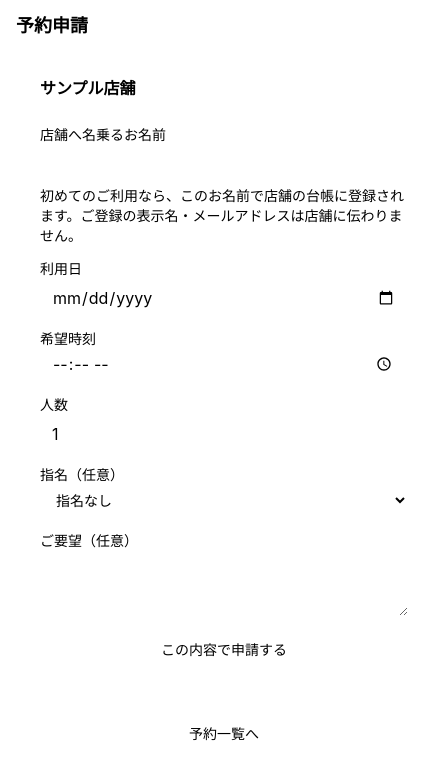
MemberReservationNewPage › 指名候補の取得中は「出勤なし」を出さず、送信も抑止する
Type "2026-08-10" into the date field labelled "利用日" at (224, 298), box [40,280,408,316]
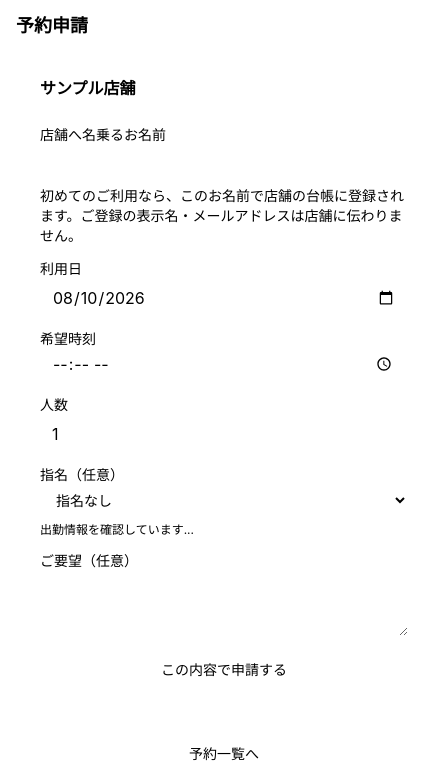
Expected: the text "出勤情報を確認しています..." is shown, [40,522,194,537]
Expected: the button "この内容で申請する" is disabled, [40,652,408,688]
